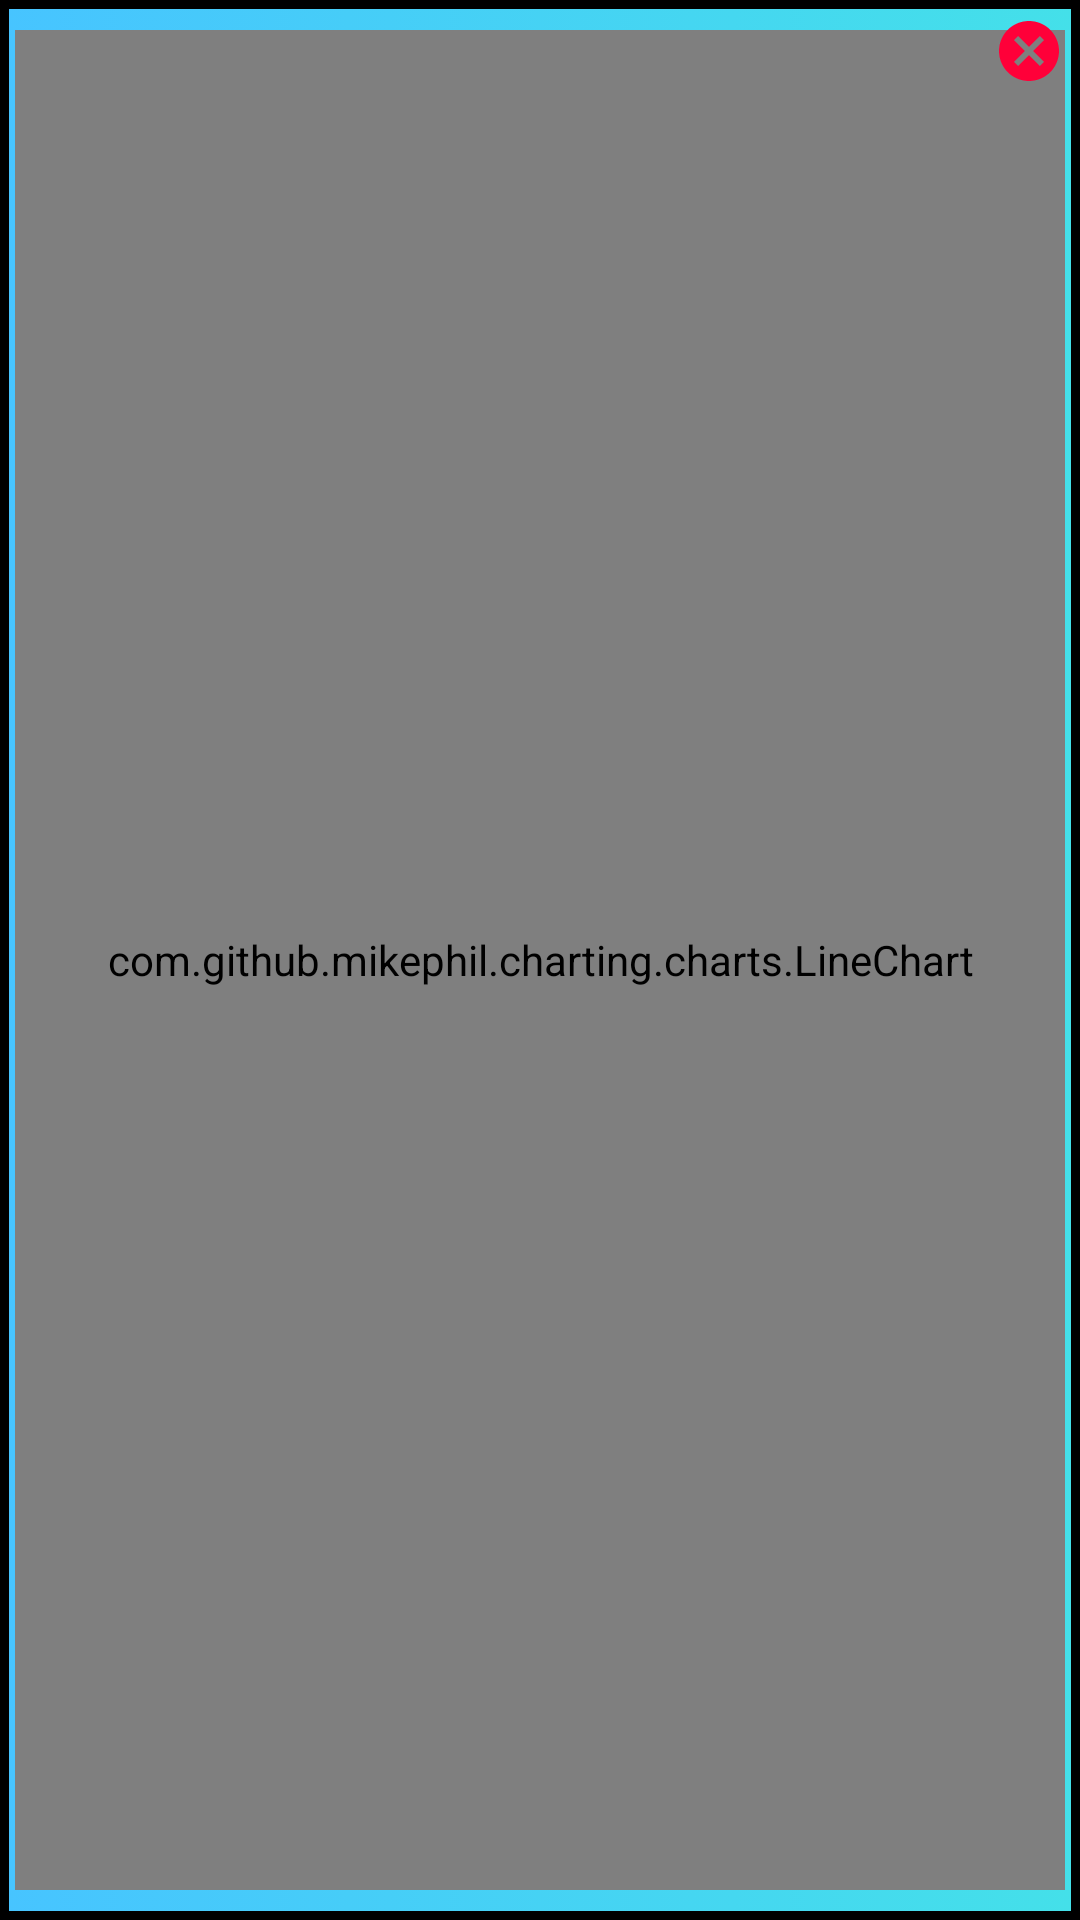

Screen size 1080×1920. Icon name, then its center in pixels as point (x, y):
cancel: point (1029, 51)
